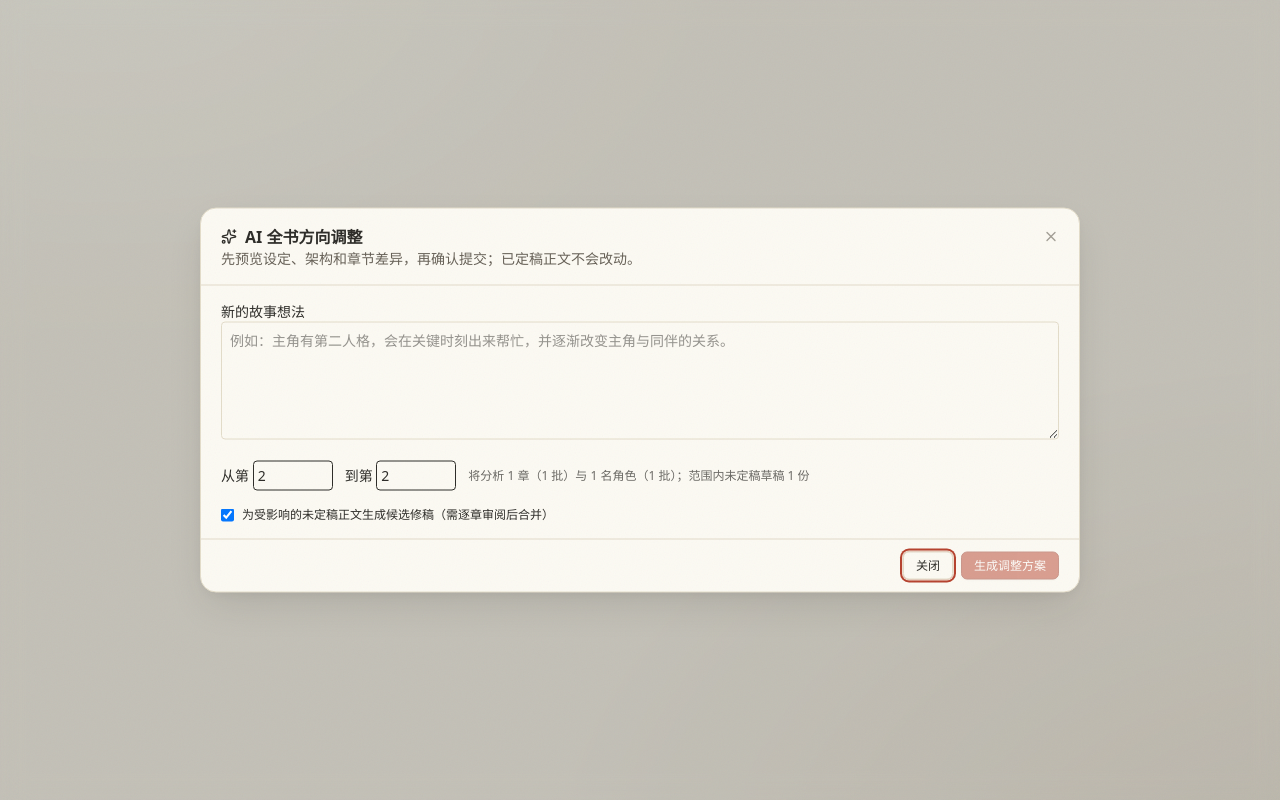
Test case: creates a source-bound candidate revision without overwriting the unfinished draft
expect the text "将分析 1 章（1 批）与 1 名角色（1 批）；范围内未定稿草稿 1 份" is shown: met, box [468, 468, 810, 484]
Step 1. Type "主角有第二人格" into the text box with placeholder "例如：主角有第二人格，会在关键时刻出来帮忙，并逐渐改变主角与同伴的关系。" → point(640, 380), box [221, 322, 1059, 440]
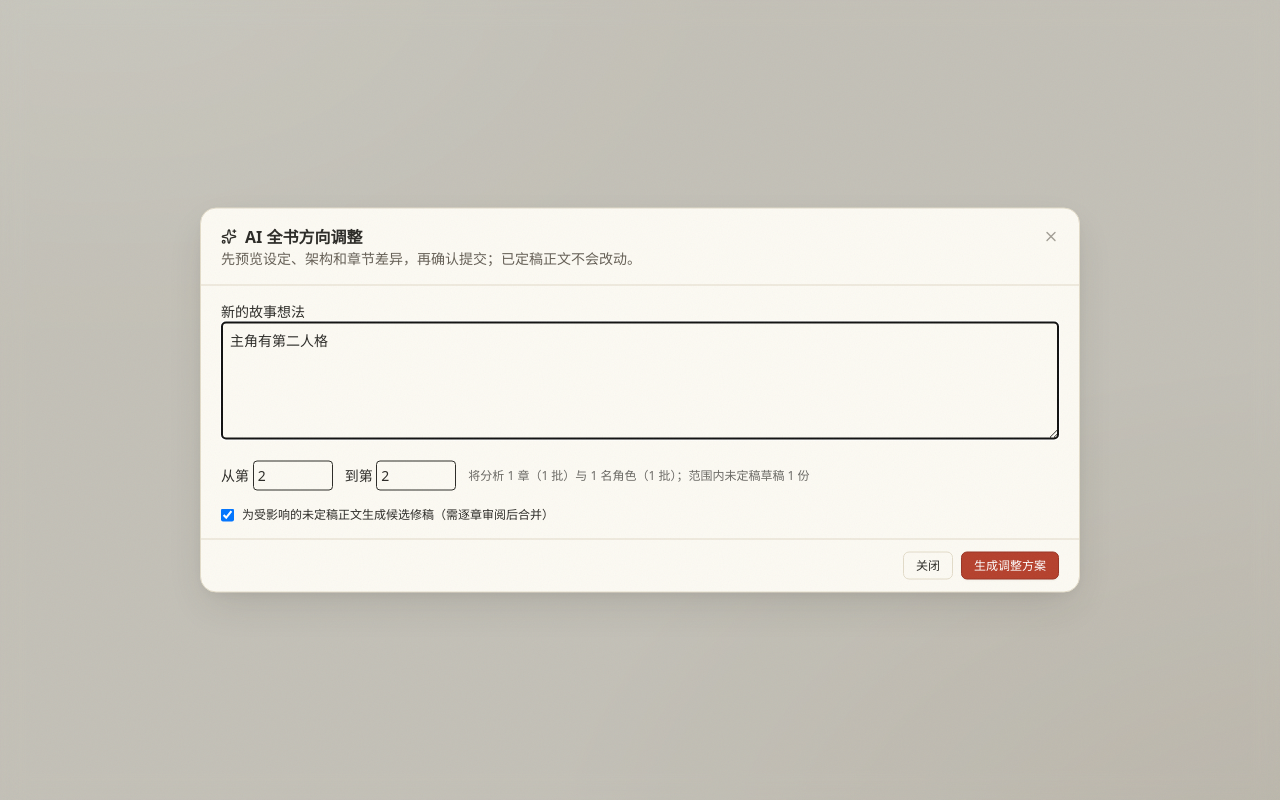
Step 2. Click the button "生成调整方案" → point(1010, 566), box [961, 552, 1059, 580]
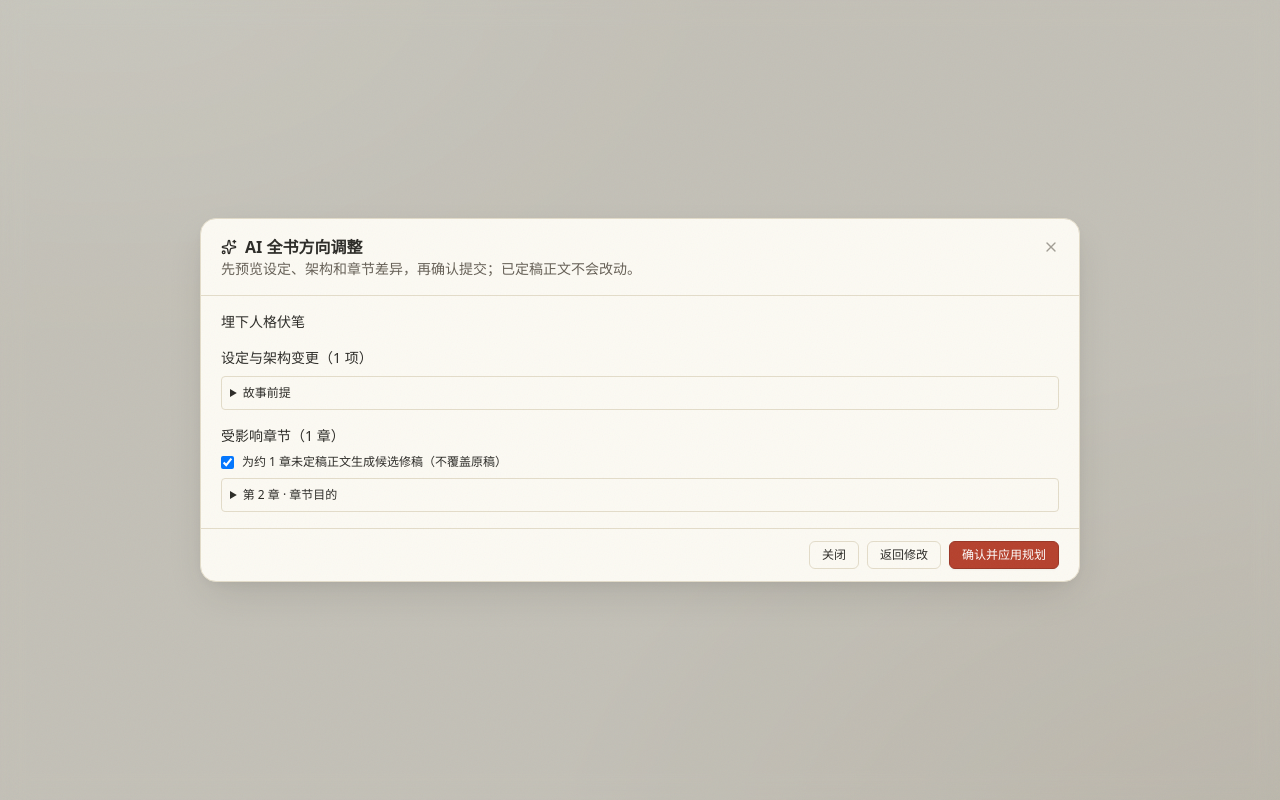
expect the text "埋下人格伏笔" is shown: met, box [221, 312, 305, 331]
Step 3. Click the button "确认并应用规划" → point(1004, 555), box [949, 541, 1059, 569]
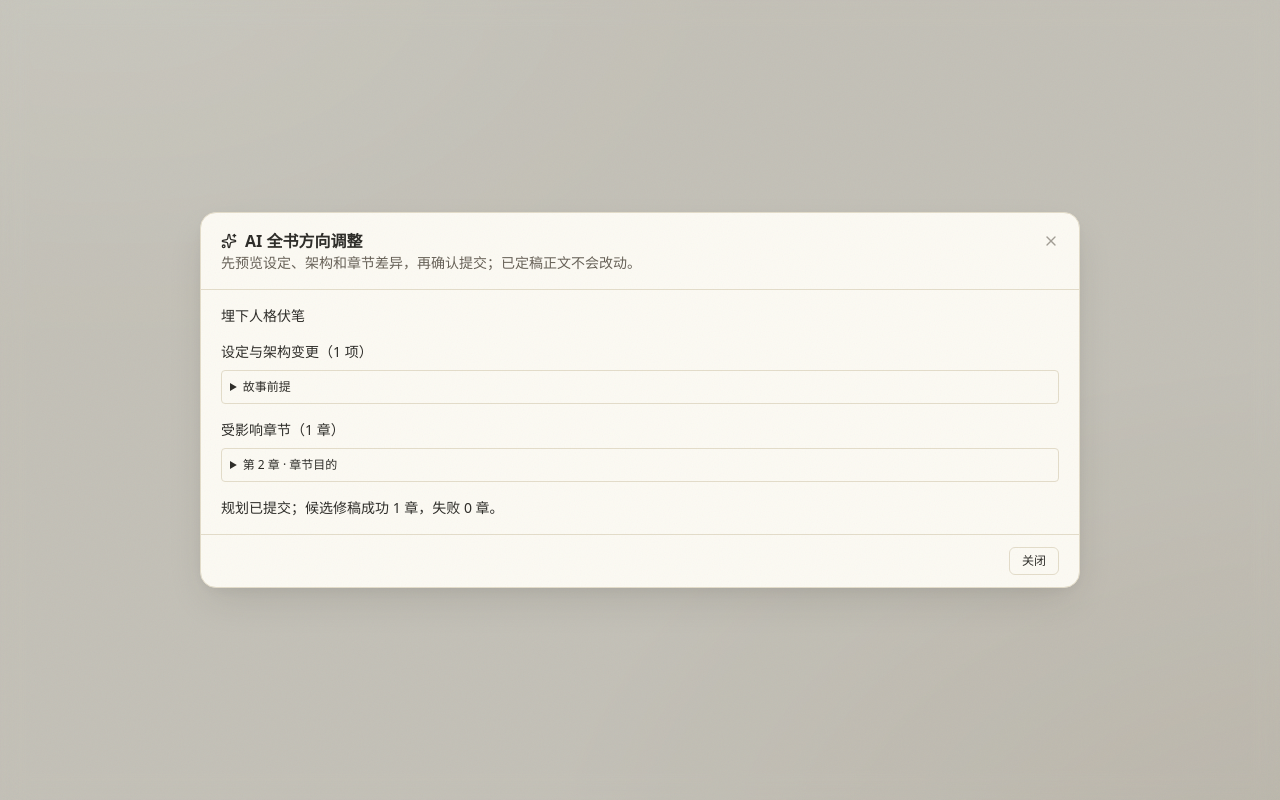
expect the text "规划已提交；候选修稿成功 1 章，失败 0 章。" is shown: met, box [221, 498, 504, 517]
